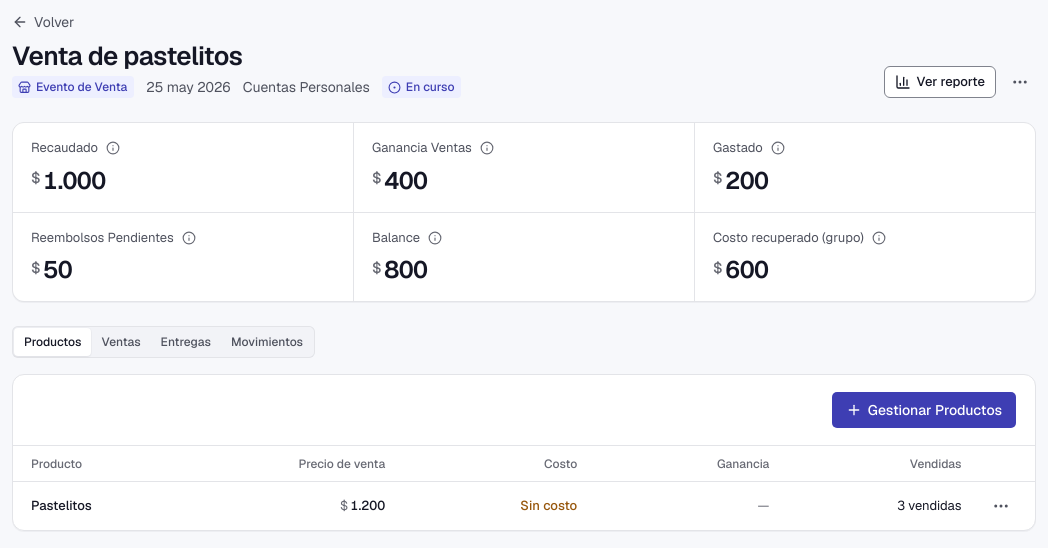
Test: EventoDetailView › reporte privado: el menú ofrece hacerlo público y no hay link para copiar
Click the button named "Más acciones del evento" at {"x": 1020, "y": 82}, box [1004,66,1036,98]
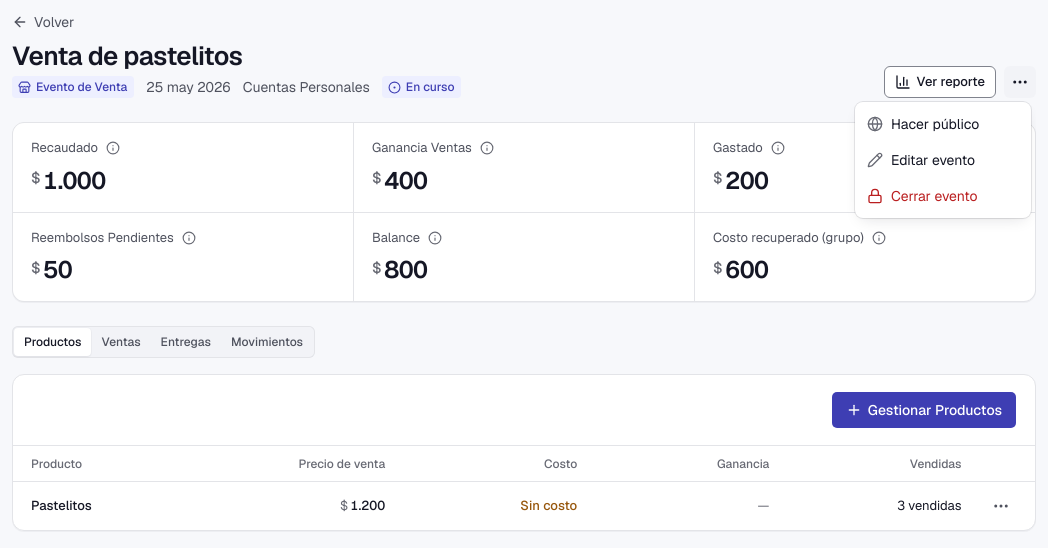
Expected: the menu item "Hacer público" is shown, [867,115,979,133]
